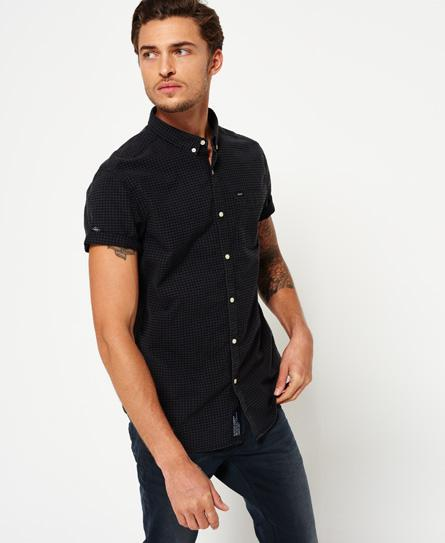teeshirt: (79, 106, 287, 452)
